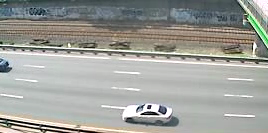car: (120, 102, 177, 128)
